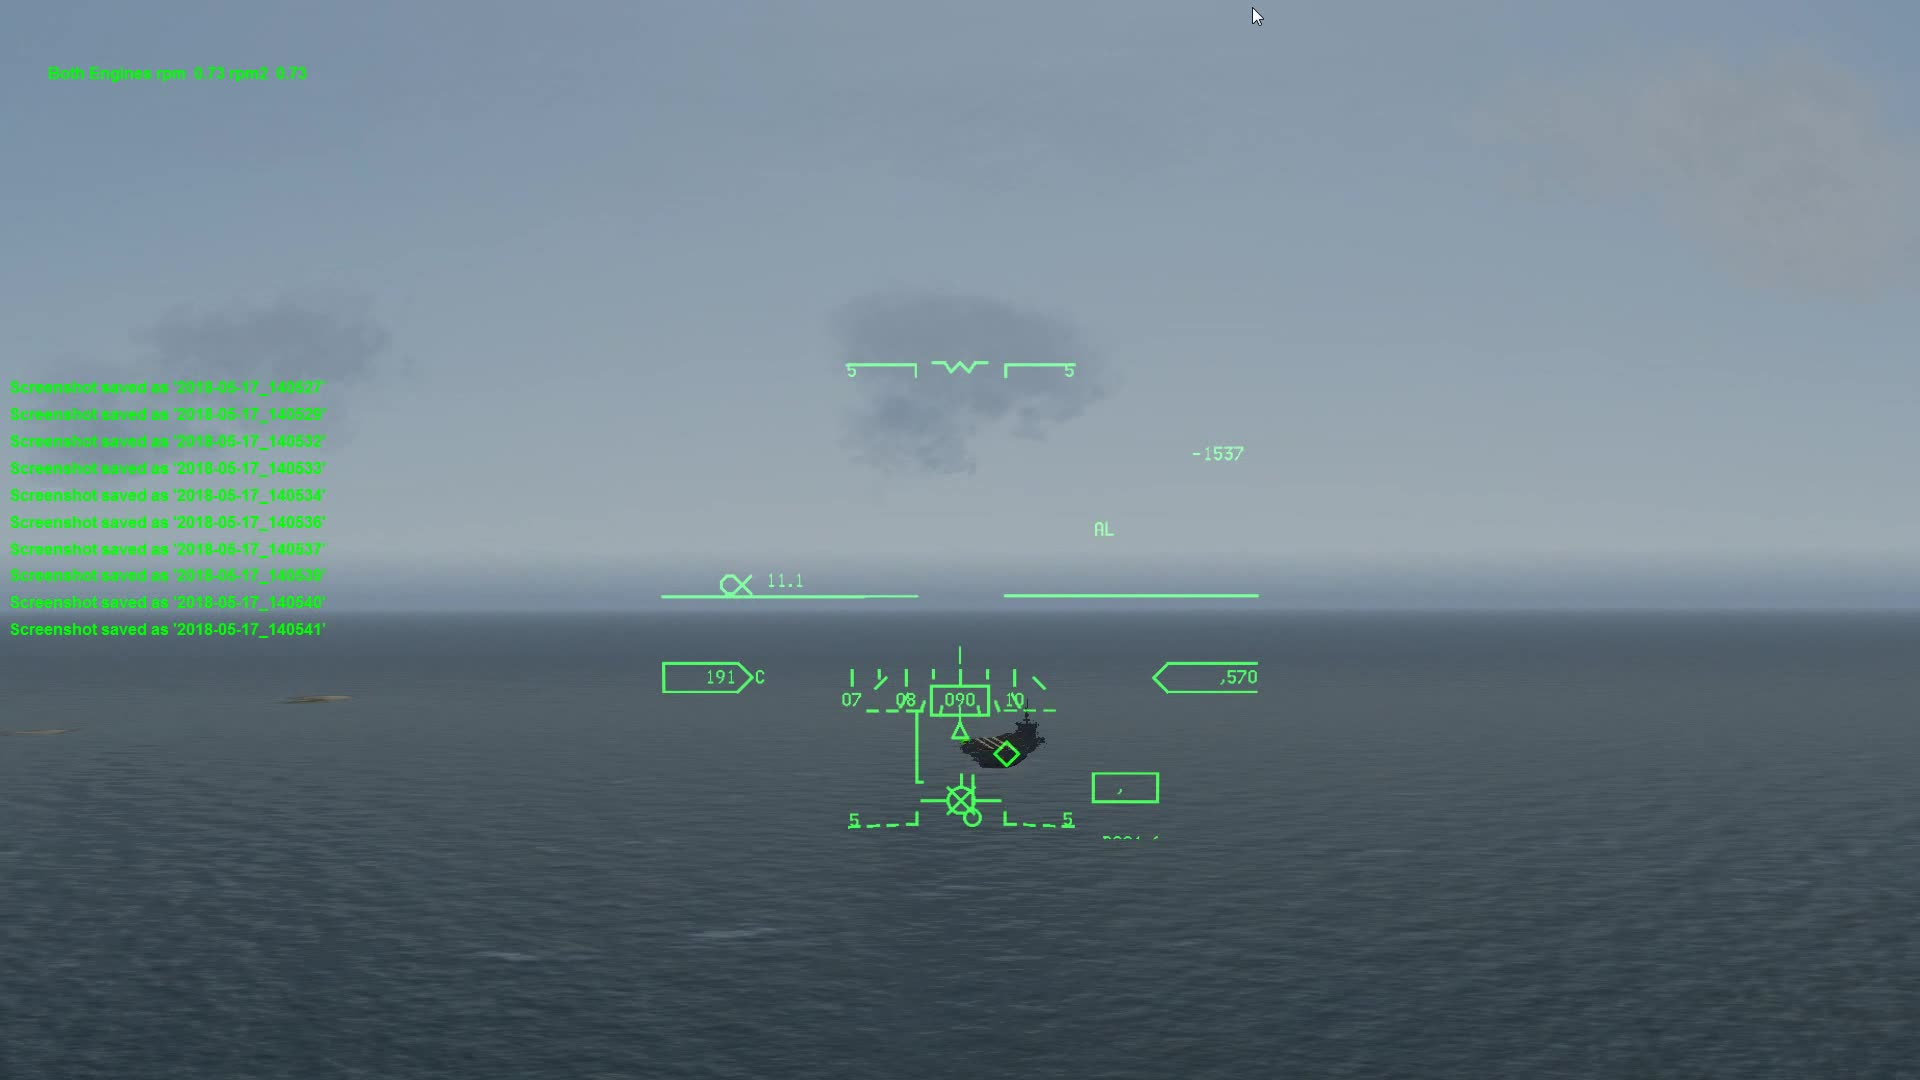speed vector: (918, 764, 1002, 814)
